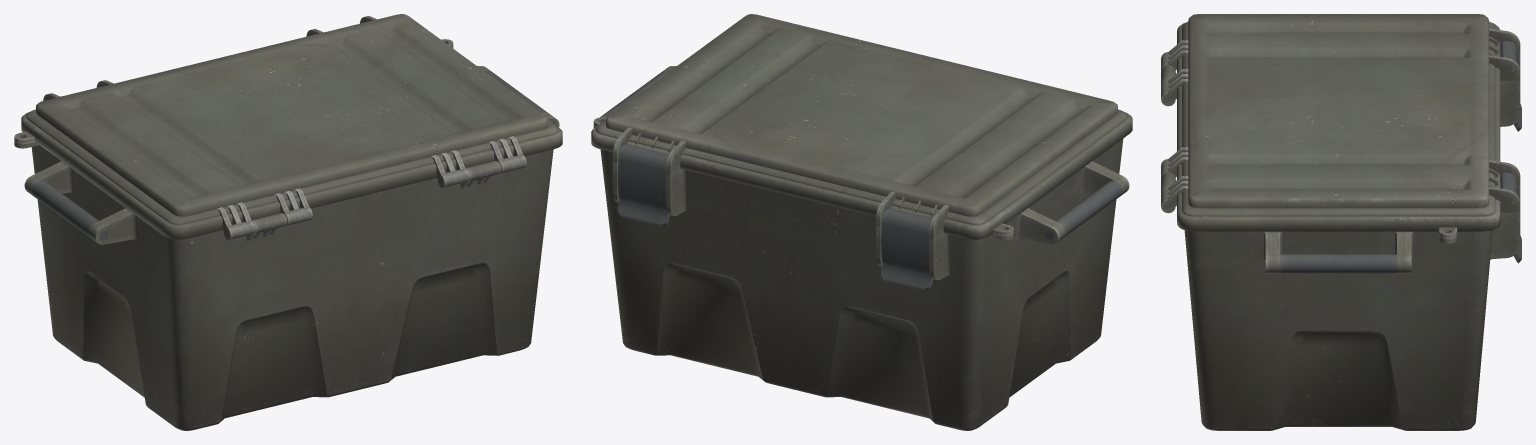
Rendered from SM_Ammo_Crate_01a.glb.
The picture shows the model from 3 angles, left to right: view 1: azimuth 30°, elevation 25°; view 2: azimuth 150°, elevation 25°; view 3: azimuth 270°, elevation 25°; orthographic projection. The views are drawn at different scales.
Parts seen in each view (by area): view 1: SM_Ammo_Crate_01a; view 2: SM_Ammo_Crate_01a; view 3: SM_Ammo_Crate_01a.
Part boxes in pixels (box(x1,y1,x2,y2)): SM_Ammo_Crate_01a: box(14, 14, 562, 430); SM_Ammo_Crate_01a: box(591, 14, 1132, 430); SM_Ammo_Crate_01a: box(1161, 14, 1521, 430).
Size of the model in its own units: 1.14 by 0.5481 by 0.7526.
1 material, 1 textured.
